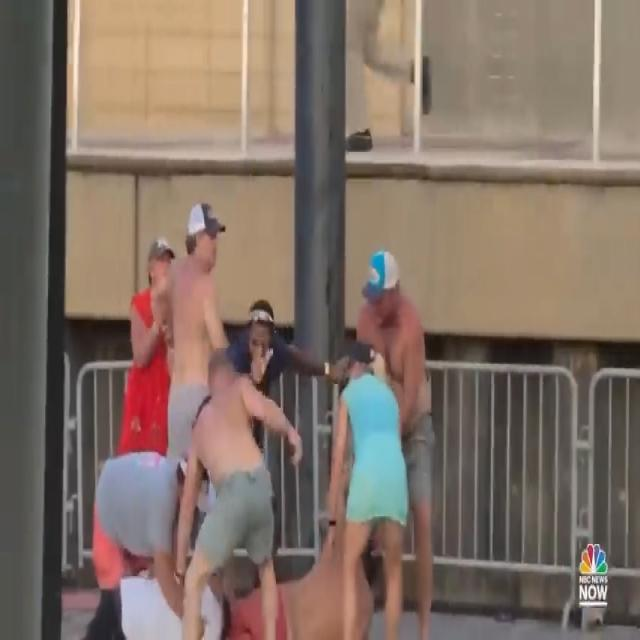fight: (82, 194, 452, 640)
